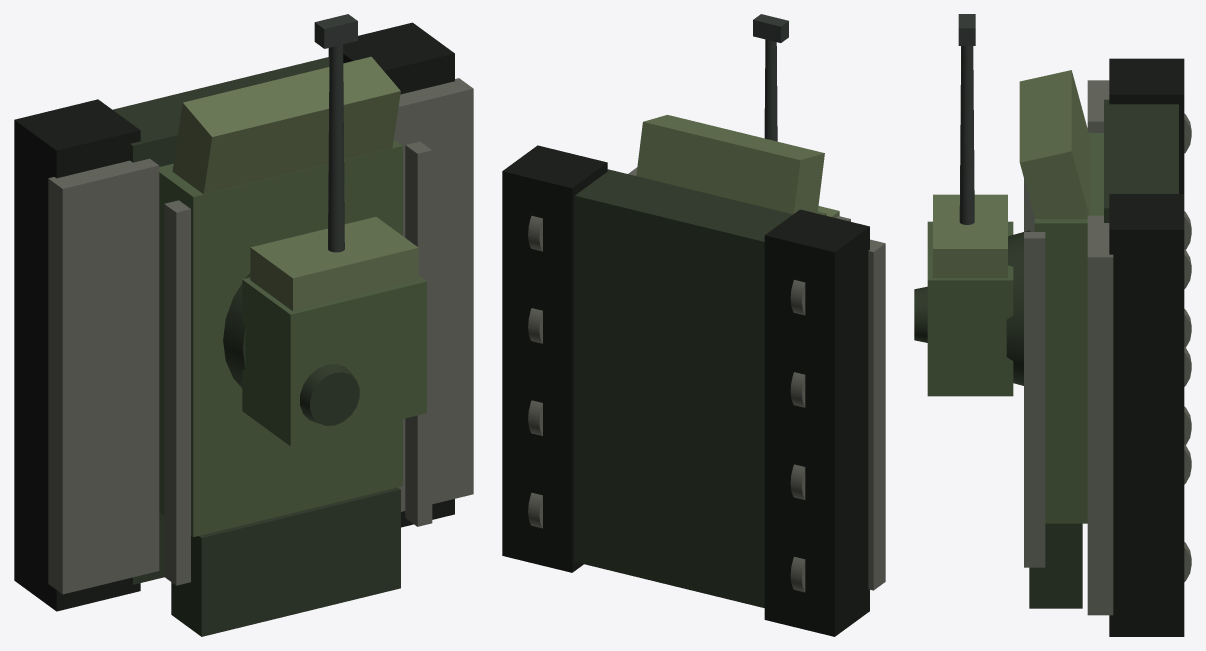
The picture shows the model from 3 angles, left to right: view 1: azimuth 30°, elevation 25°; view 2: azimuth 150°, elevation 25°; view 3: azimuth 270°, elevation 25°; orthographic projection. The views are drawn at different scales.
Visible parts, largest first — view 1: left_track_guard, riveted_hull_upper, left_track_rubber, rear_engine_box, riveted_turret_box, right_track_guard, front_driver_plate, turret_front_plate, left_rivet_strip, right_rivet_strip, right_track_rubber, riveted_hull_lower (+4 smaller); view 2: riveted_hull_lower, left_track_rubber, right_track_rubber, front_driver_plate, left_track_guard, barrel_tube, muzzle_brake; view 3: right_track_rubber, riveted_hull_upper, right_track_guard, riveted_turret_box, front_driver_plate, right_rivet_strip, riveted_hull_lower, turret_front_plate, left_track_rubber, rear_engine_box, barrel_tube, small_turret_ring (+3 smaller).
Boxes of the visible parts, x1,y1,x2,y2 form: left_track_guard: [48, 158, 159, 594]; riveted_hull_upper: [159, 139, 402, 537]; left_track_rubber: [14, 99, 140, 611]; rear_engine_box: [171, 487, 400, 636]; riveted_turret_box: [242, 276, 426, 446]; right_track_guard: [394, 78, 473, 511]; front_driver_plate: [172, 56, 400, 194]; turret_front_plate: [250, 217, 418, 310]; left_rivet_strip: [164, 200, 190, 585]; right_rivet_strip: [405, 141, 432, 526]; right_track_rubber: [328, 22, 454, 527]; riveted_hull_lower: [113, 57, 329, 584]; riveted_hull_lower: [574, 169, 792, 607]; left_track_rubber: [764, 209, 869, 636]; right_track_rubber: [502, 145, 607, 572]; front_driver_plate: [636, 115, 824, 214]; left_track_guard: [868, 239, 885, 590]; barrel_tube: [764, 39, 777, 141]; muzzle_brake: [753, 14, 788, 42]; right_track_rubber: [1109, 194, 1184, 636]; riveted_hull_upper: [1034, 133, 1103, 523]; right_track_guard: [1087, 215, 1113, 615]; riveted_turret_box: [927, 221, 1013, 396]; front_driver_plate: [1019, 70, 1089, 218]; right_rivet_strip: [1024, 232, 1045, 567]; riveted_hull_lower: [1104, 99, 1178, 222]; turret_front_plate: [933, 194, 1007, 277]; left_track_rubber: [1109, 58, 1184, 193]; rear_engine_box: [1029, 523, 1082, 608]; barrel_tube: [959, 46, 974, 224]; small_turret_ring: [1006, 230, 1030, 385].
Size of the model in its own units: 39.2 by 56.21 by 25.95.
